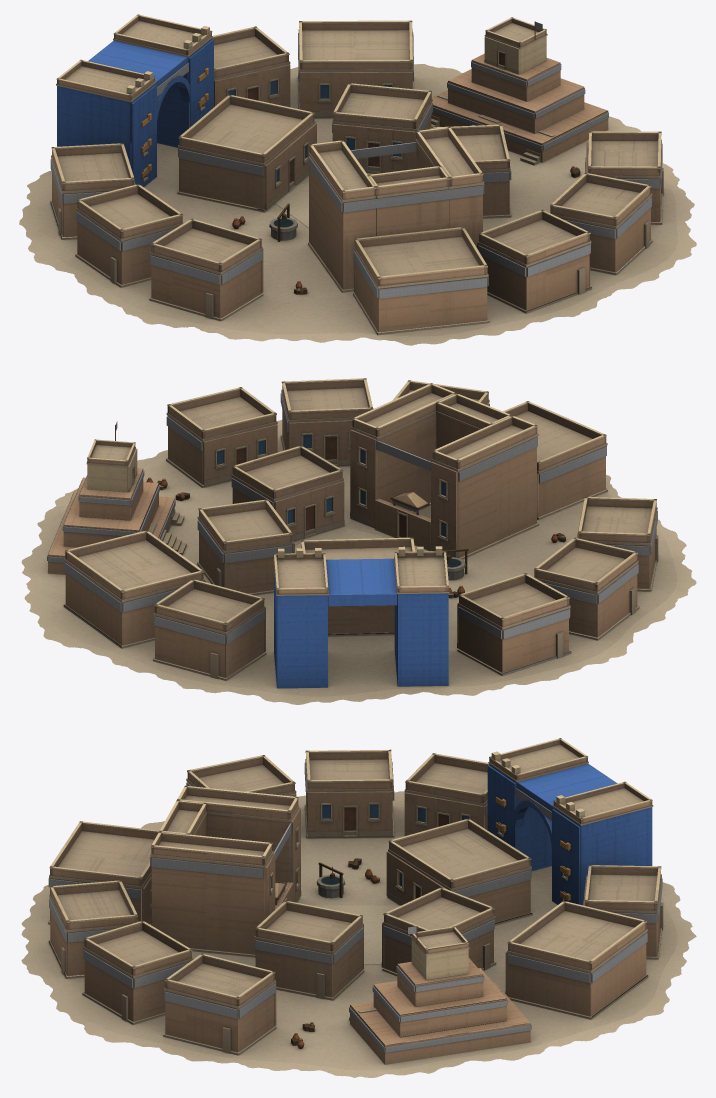
Rendered from bronze-town-medium-b-levant.glb.
3 views of the same model, one above another, from view 1: azimuth 30°, elevation 25°; view 2: azimuth 150°, elevation 25°; view 3: azimuth 270°, elevation 25° (orthographic).
Visible parts, largest first — view 1: LOD0; view 2: LOD0; view 3: LOD0.
Part boxes in pixels (x1,y1,x2,y2): LOD0: (19,14,696,345); LOD0: (21,378,696,704); LOD0: (21,738,696,1077).
Size of what is drawn, in the model's own units: 5.97 by 1.08 by 5.92.
Materials: 3 (3 with a texture image).
